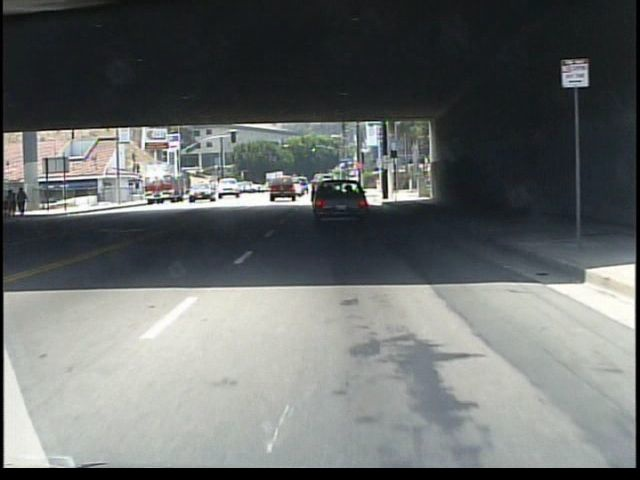person: (7, 192, 20, 221), (20, 189, 32, 219)
